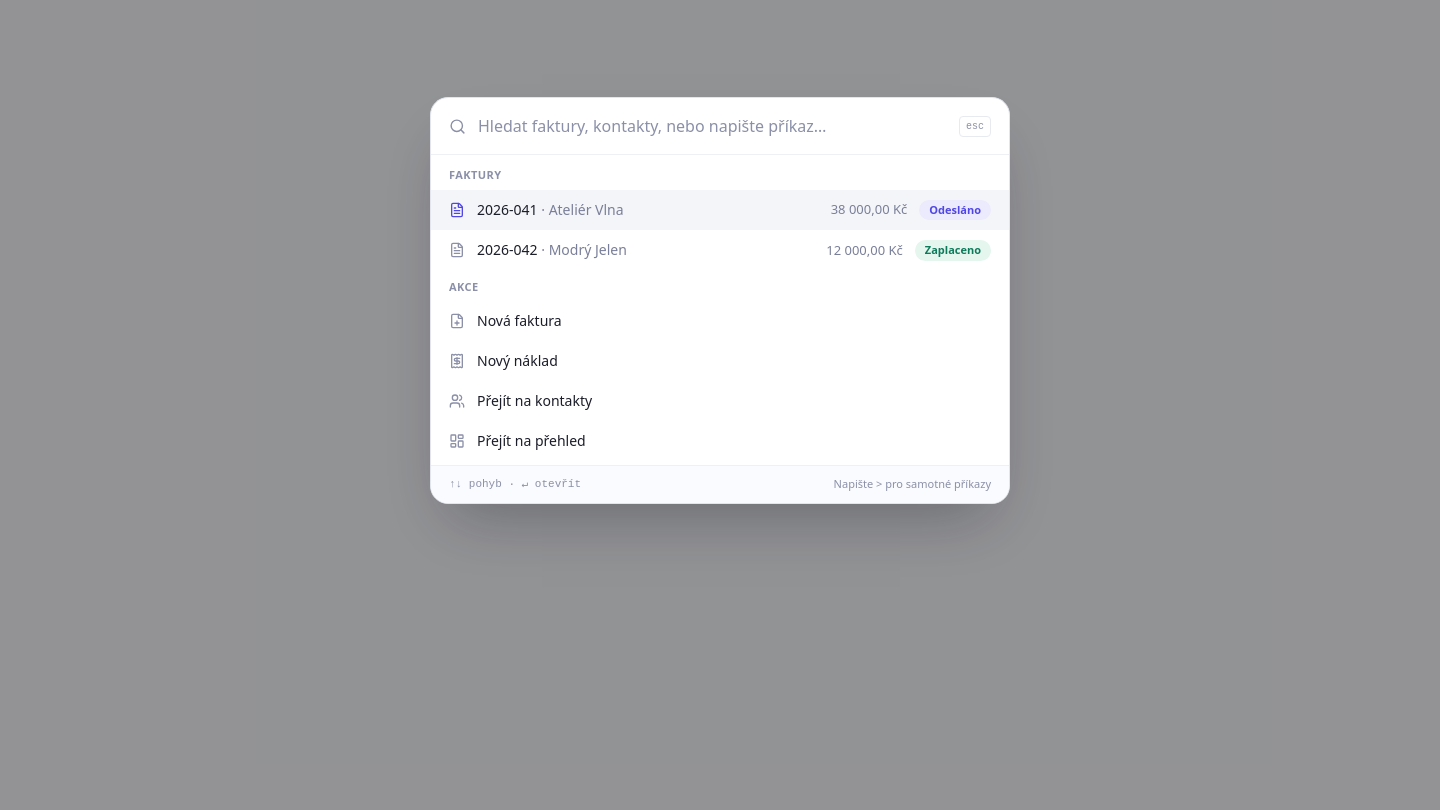
CommandPalette › shows only actions when the query starts with >
Expected: the text "2026-041 · Ateliér Vlna" is shown, [477,200,624,219]
Type ">" into the field at (712, 126), box [478,114,947,138]
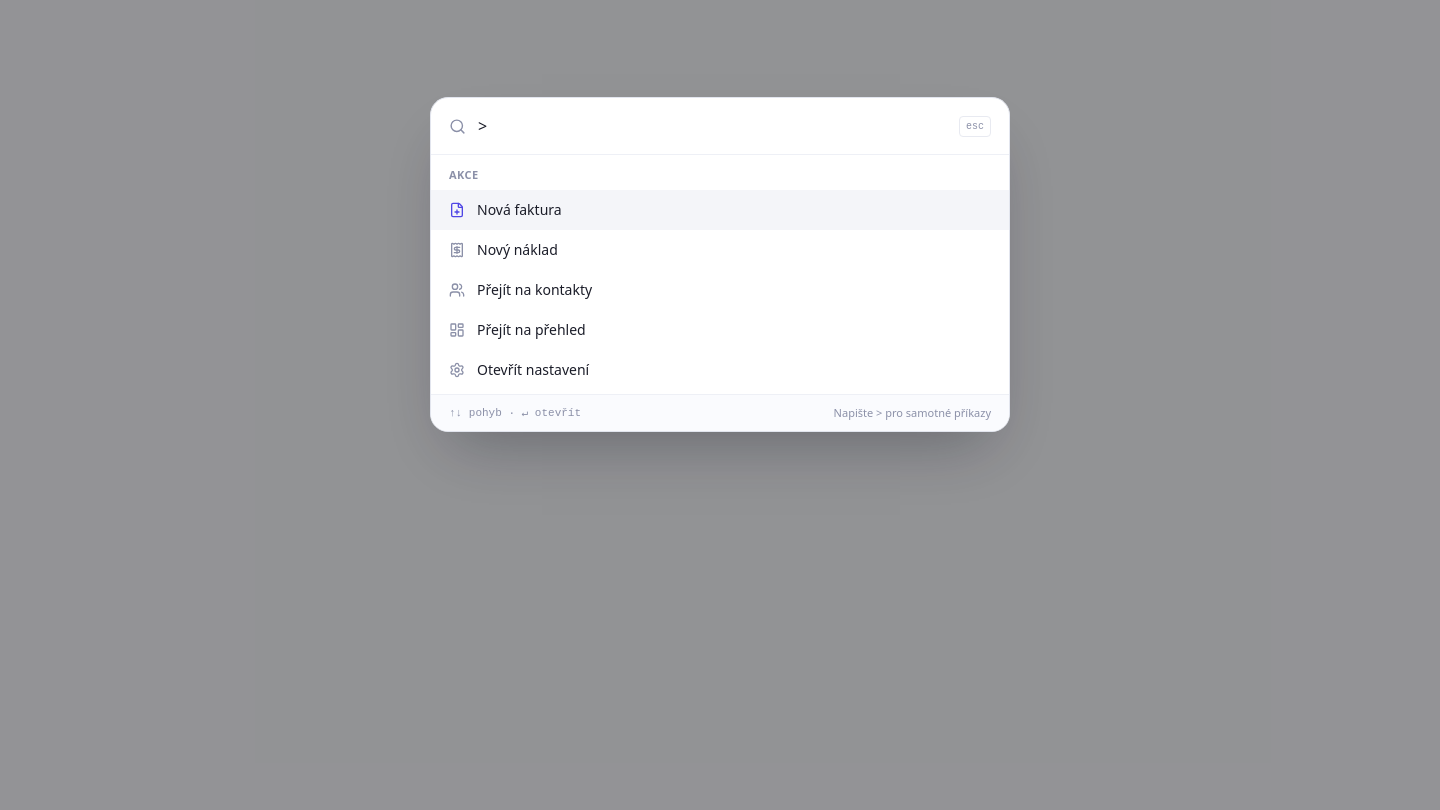
Expected: the text "Akce" is shown, [449,167,479,182]
Expected: the text "2026-041" is gone
